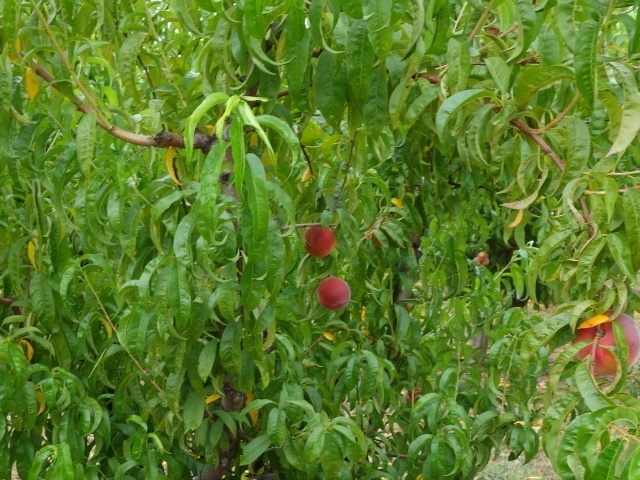peach: (572, 304, 640, 378), (316, 272, 354, 313), (301, 221, 339, 259)
